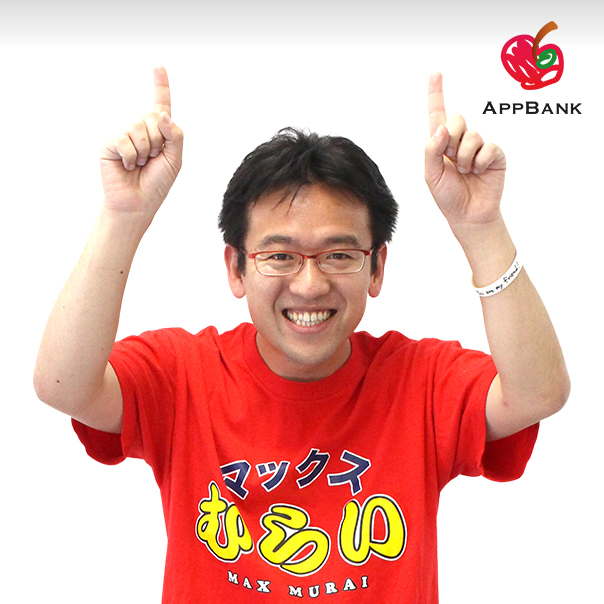face: (222, 185, 389, 369)
hand: (101, 63, 187, 225), (423, 69, 508, 226)
